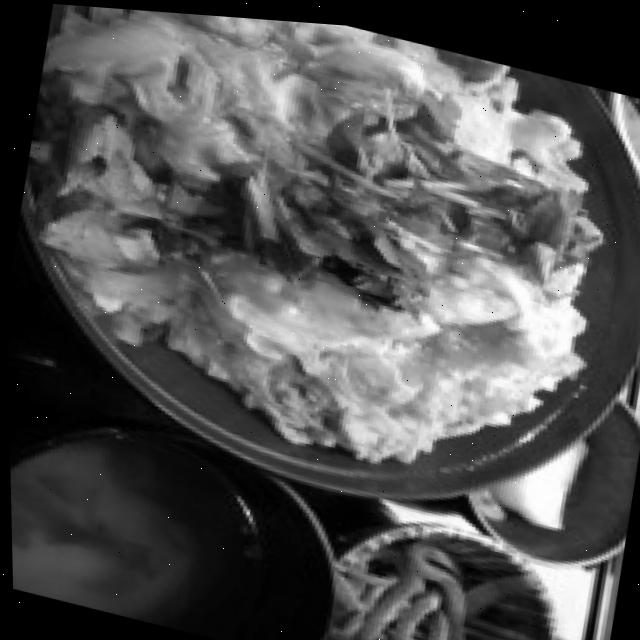米饭主食: (0, 0, 640, 555)
